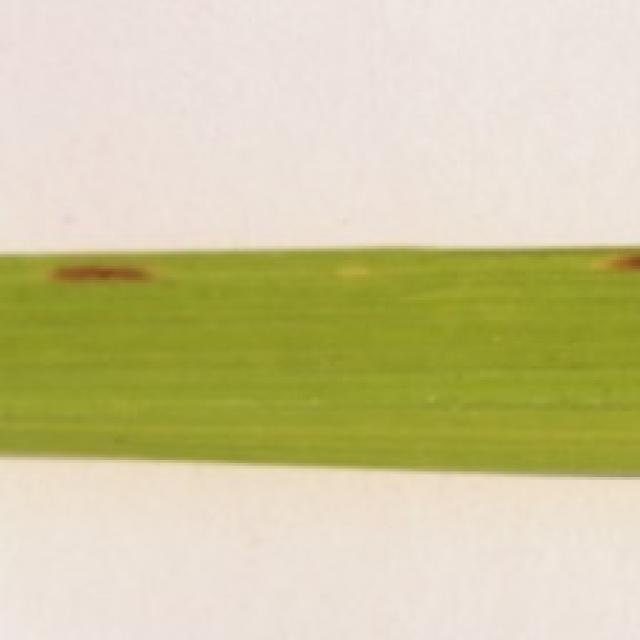Rice___Brown_Spot: (0, 248, 637, 478)
